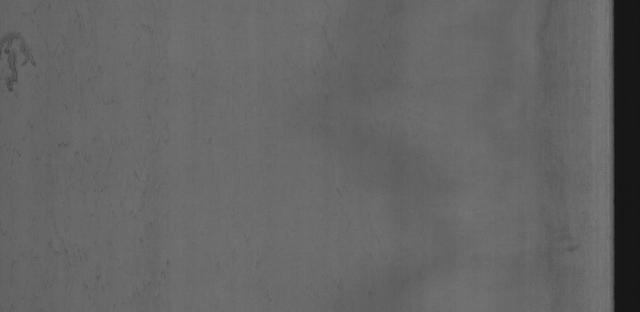silk_spot: (56, 48, 208, 268)
water_spot: (0, 11, 56, 108)
